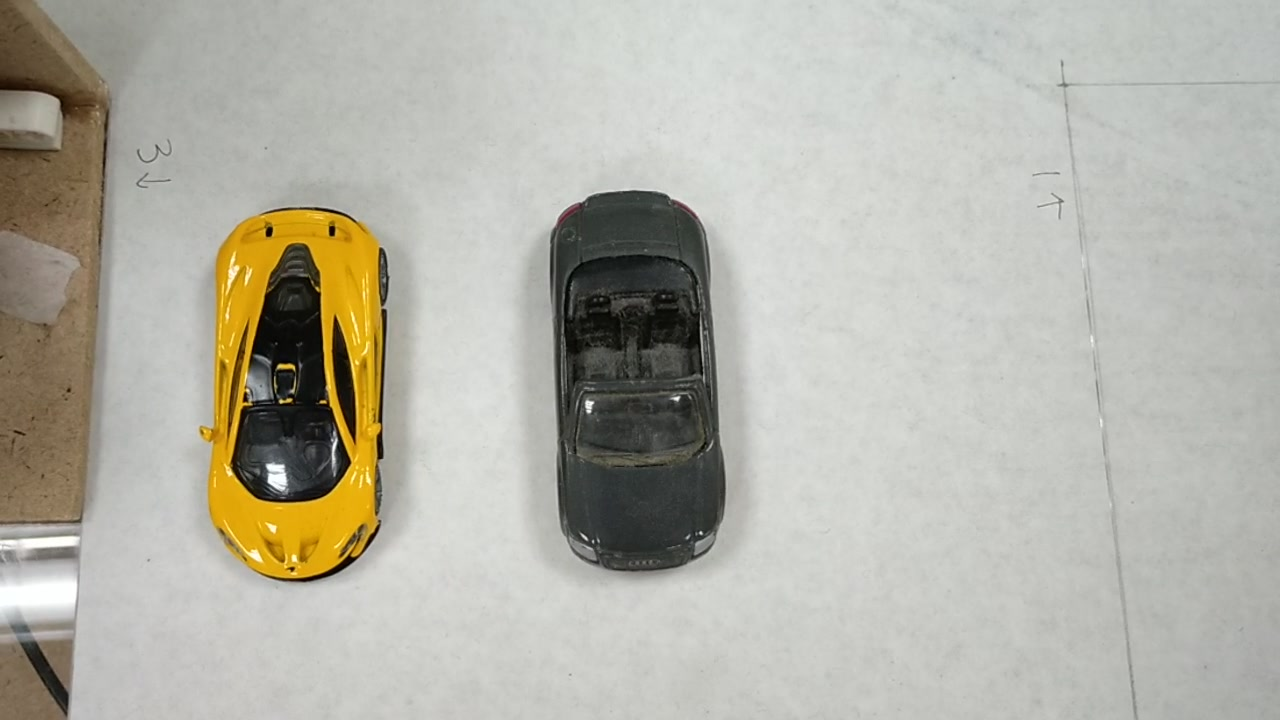car: (203, 200, 410, 551), (555, 195, 722, 559)
